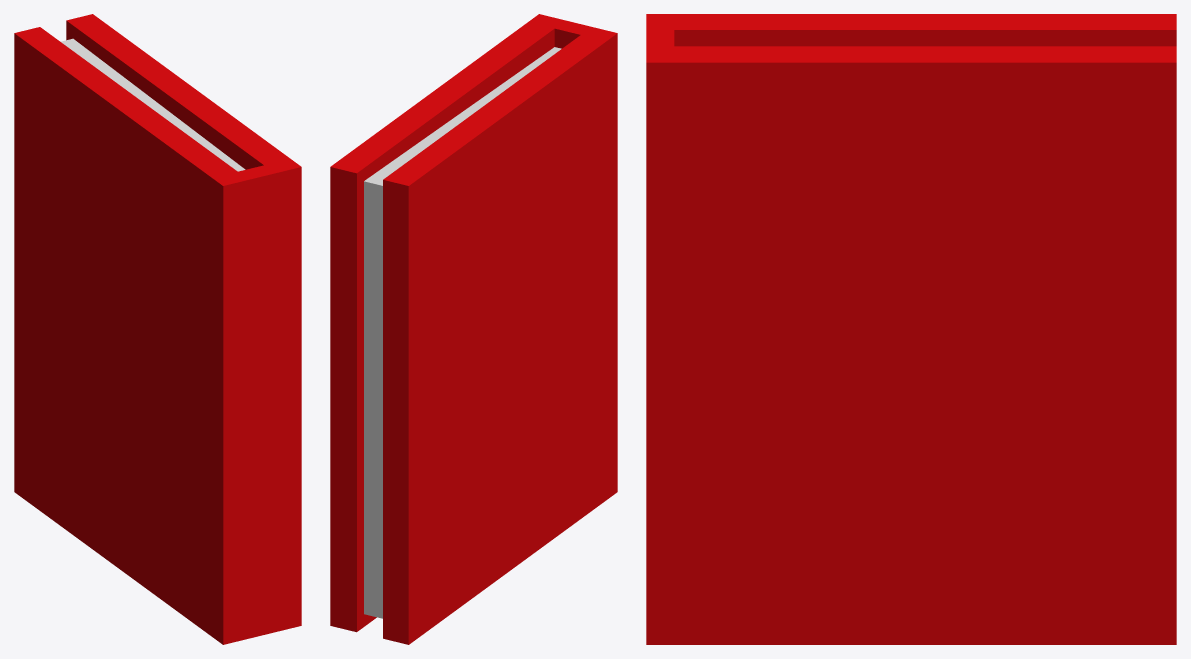
Rendered from Book.fbx.
3 views of the same model, side by side, from view 1: azimuth 30°, elevation 25°; view 2: azimuth 150°, elevation 25°; view 3: azimuth 270°, elevation 25° (orthographic). The views are drawn at different scales.
Visible parts, largest first — view 1: Book.001; view 2: Book.001; view 3: Book.001.
Boxes of the visible parts, x1=… form: Book.001: x1=14, y1=14, x2=301, y2=644; Book.001: x1=330, y1=14, x2=617, y2=644; Book.001: x1=646, y1=14, x2=1176, y2=644.
Bounding box in the file's own units: 8.23 × 45.93 × 37.9.
